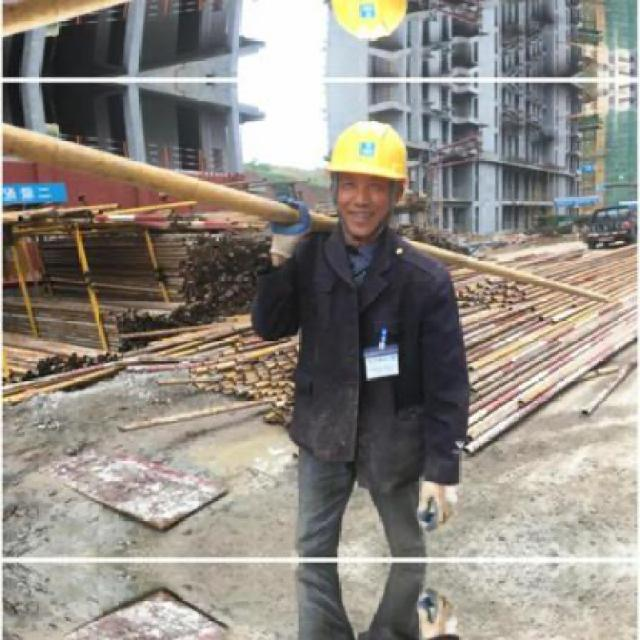helmet: (317, 109, 414, 243), (317, 0, 416, 52)
